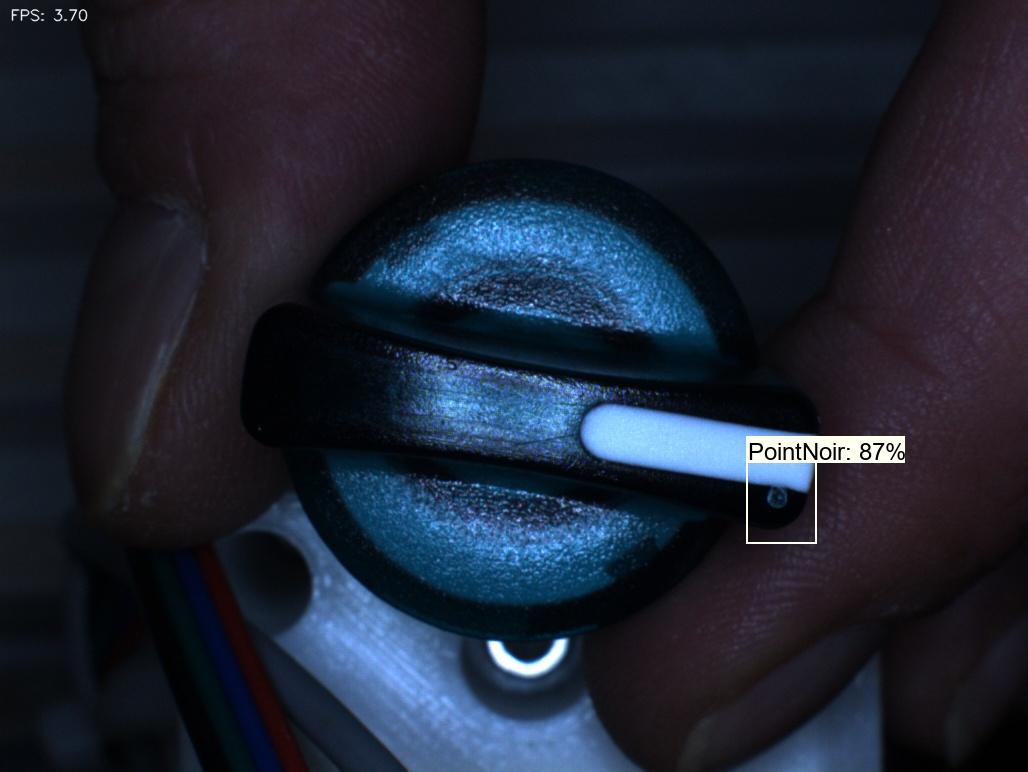Choc: (734, 464, 825, 554)
